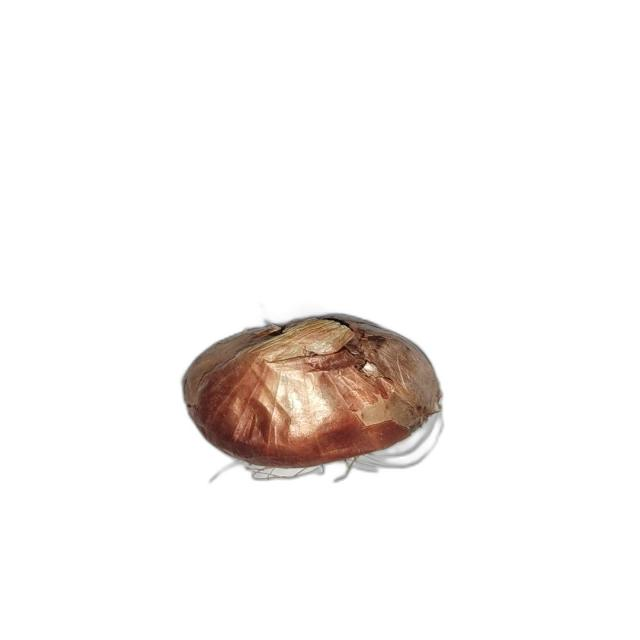onion: (182, 315, 444, 480)
